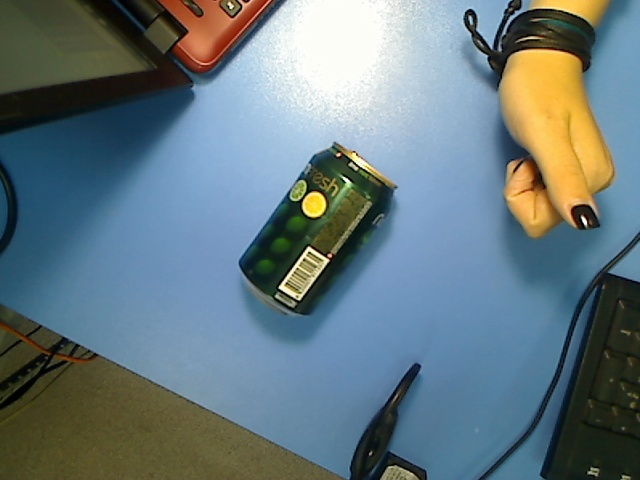can: (236, 140, 397, 320)
